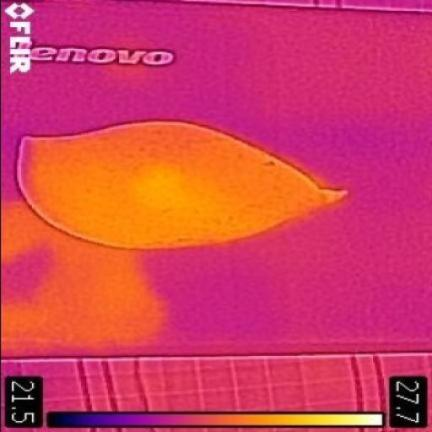mango: (16, 121, 347, 249)
